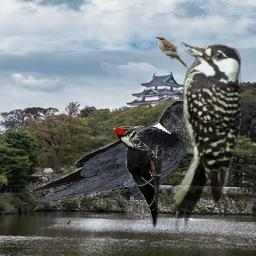Crow: (30, 100, 206, 225)
Cuckoo: (156, 37, 188, 68)
Woodpecker: (170, 41, 241, 231), (113, 123, 164, 233)
